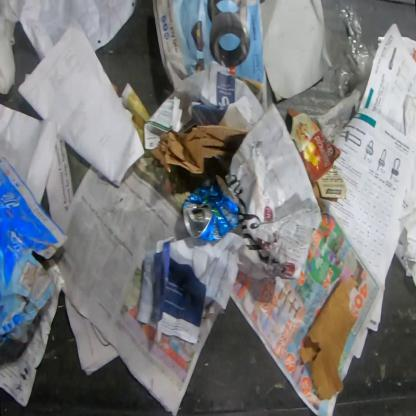cardboard: (0, 154, 69, 346), (286, 108, 350, 202)
metal: (181, 183, 240, 242)
soft_plastic: (336, 5, 378, 100), (0, 1, 26, 96)
